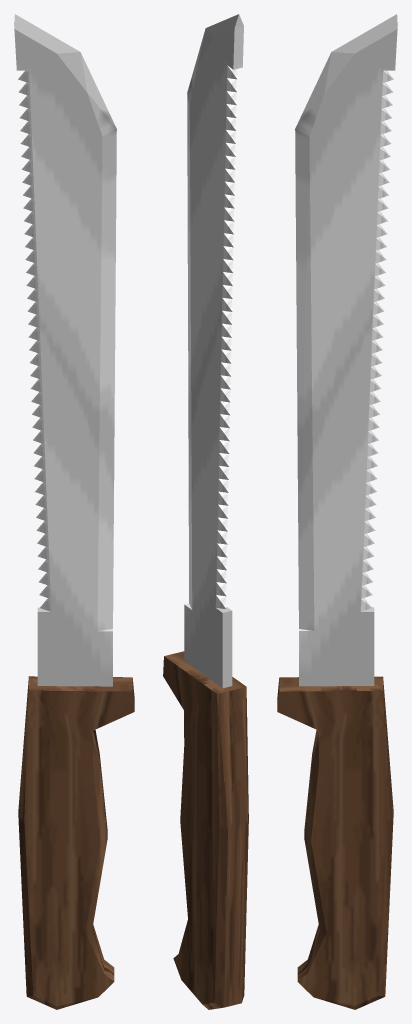
File: SawbackMachete.fbx
3 views of the same model, side by side, from view 1: azimuth 90°, elevation 25°; view 2: azimuth 210°, elevation 25°; view 3: azimuth 270°, elevation 25° (orthographic).
Parts seen in each view (by area): view 1: Machete.001; view 2: Machete.001; view 3: Machete.001.
Boxes of the visible parts, box(x1,y1,x2,y2) form: Machete.001: box(14, 14, 134, 1009); Machete.001: box(163, 14, 248, 1009); Machete.001: box(277, 14, 397, 1009).
Size of the model in its own units: 0.012 by 0.3883 by 0.0427.
